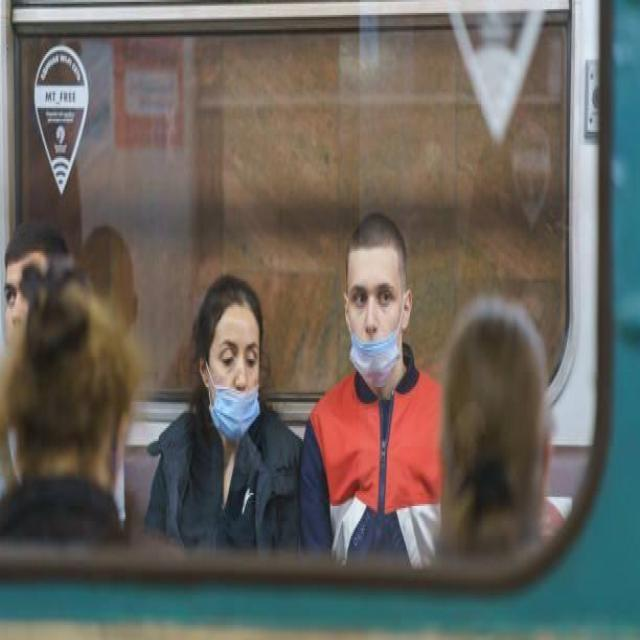hairnet: (199, 278, 262, 436), (348, 236, 402, 376)
